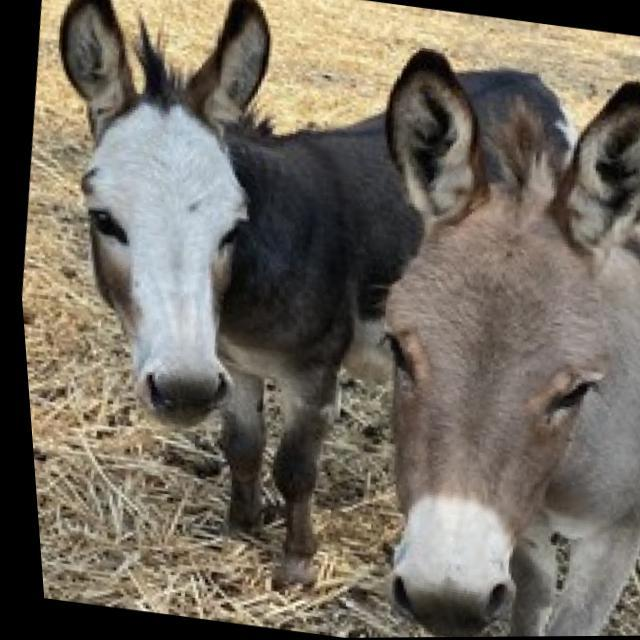Donkey: (0, 0, 614, 624), (304, 39, 640, 638)
